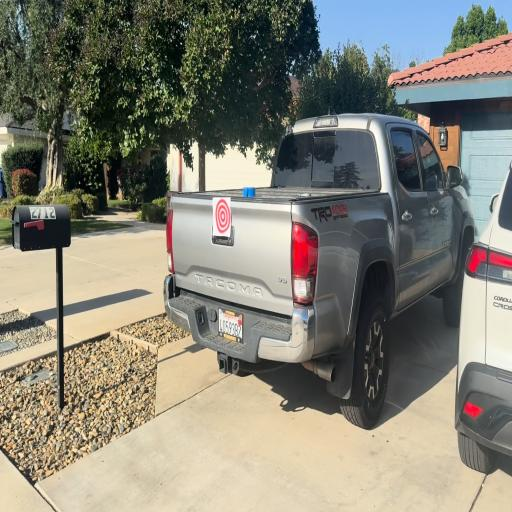bullseye: (214, 198, 232, 236)
